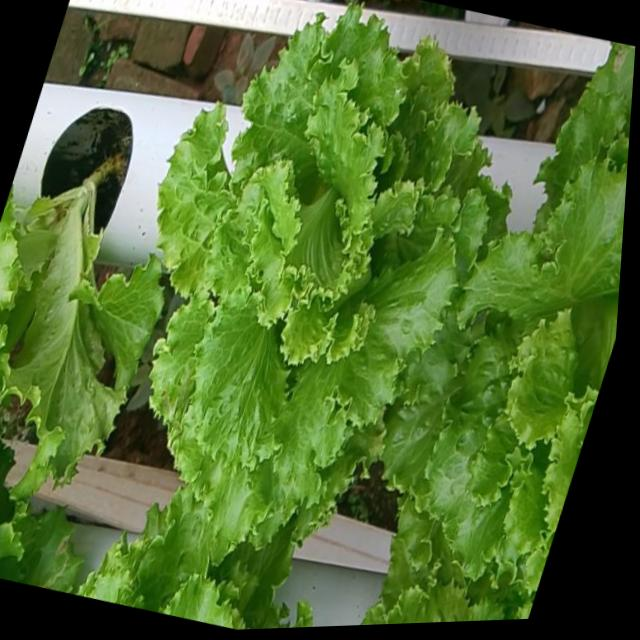Mature: (143, 5, 486, 547), (378, 144, 628, 574)
